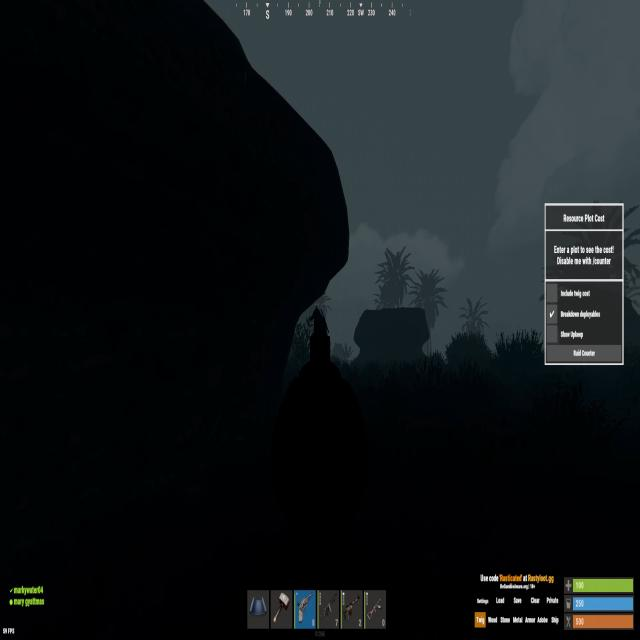Player: (309, 302, 331, 336)
